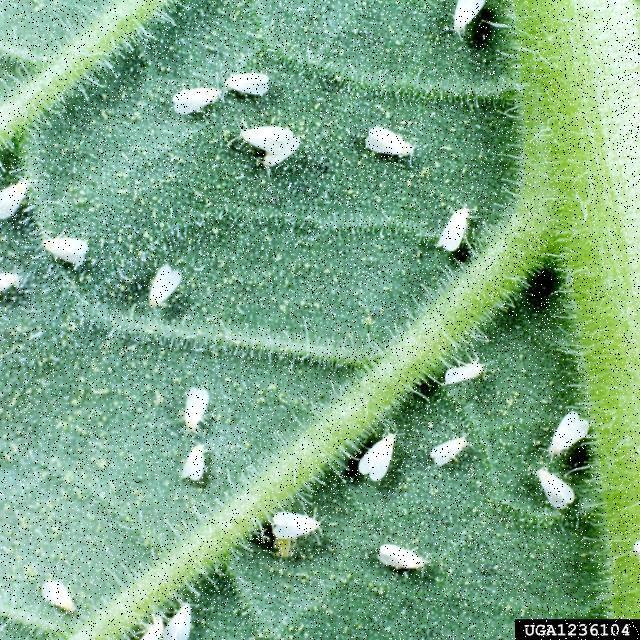Whiteflies: (240, 497, 336, 556), (24, 552, 95, 624), (415, 410, 487, 475), (133, 580, 209, 640), (418, 190, 486, 256), (522, 462, 586, 532), (119, 257, 187, 320), (538, 399, 608, 458), (234, 114, 310, 168), (360, 522, 436, 576), (350, 112, 428, 164), (160, 75, 230, 132), (163, 423, 227, 485), (231, 57, 285, 130), (438, 356, 514, 403), (351, 433, 423, 481), (23, 222, 91, 268), (163, 380, 223, 432), (441, 1, 507, 43)
